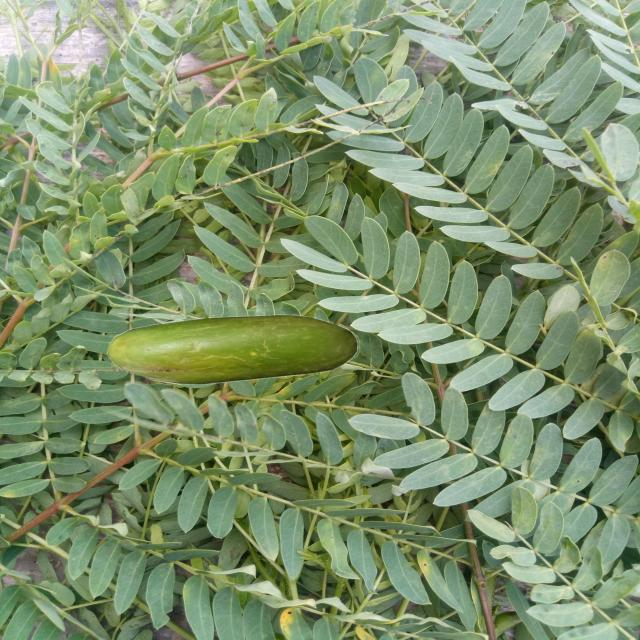Pepaya unrippen: (96, 316, 363, 390)
